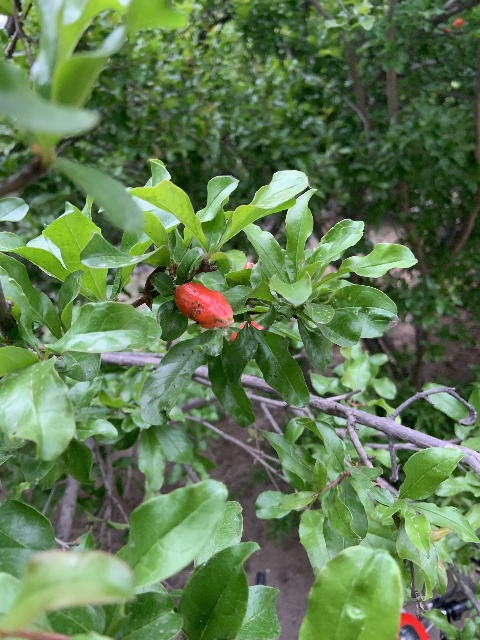bud: (173, 281, 233, 329)
